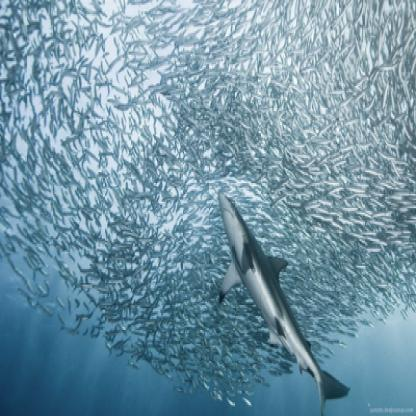Shark -Selachimorpha-: (219, 189, 353, 416)
